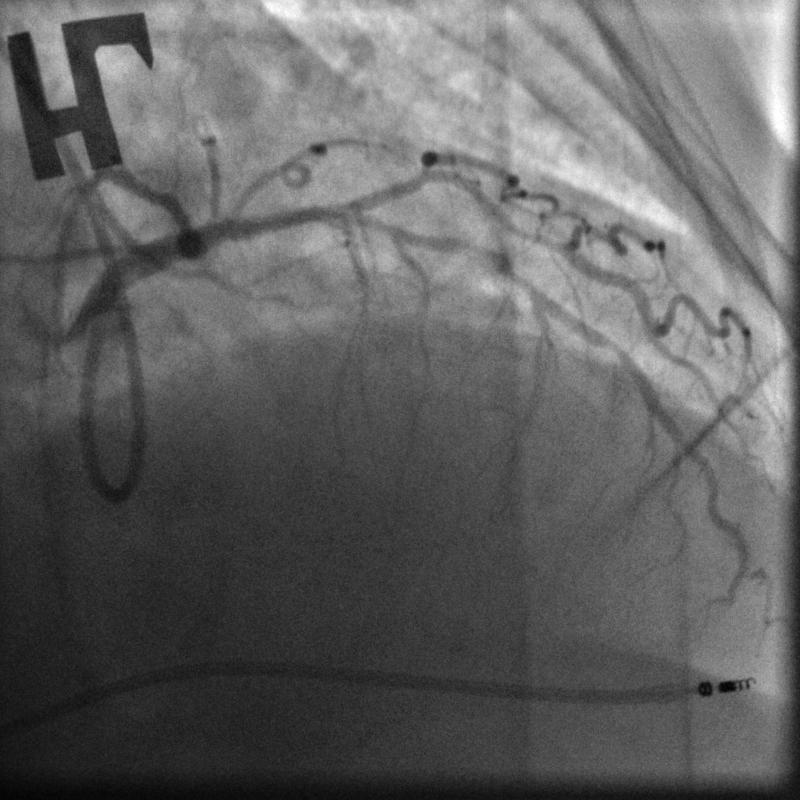Stenosis: (433, 228, 504, 272)
